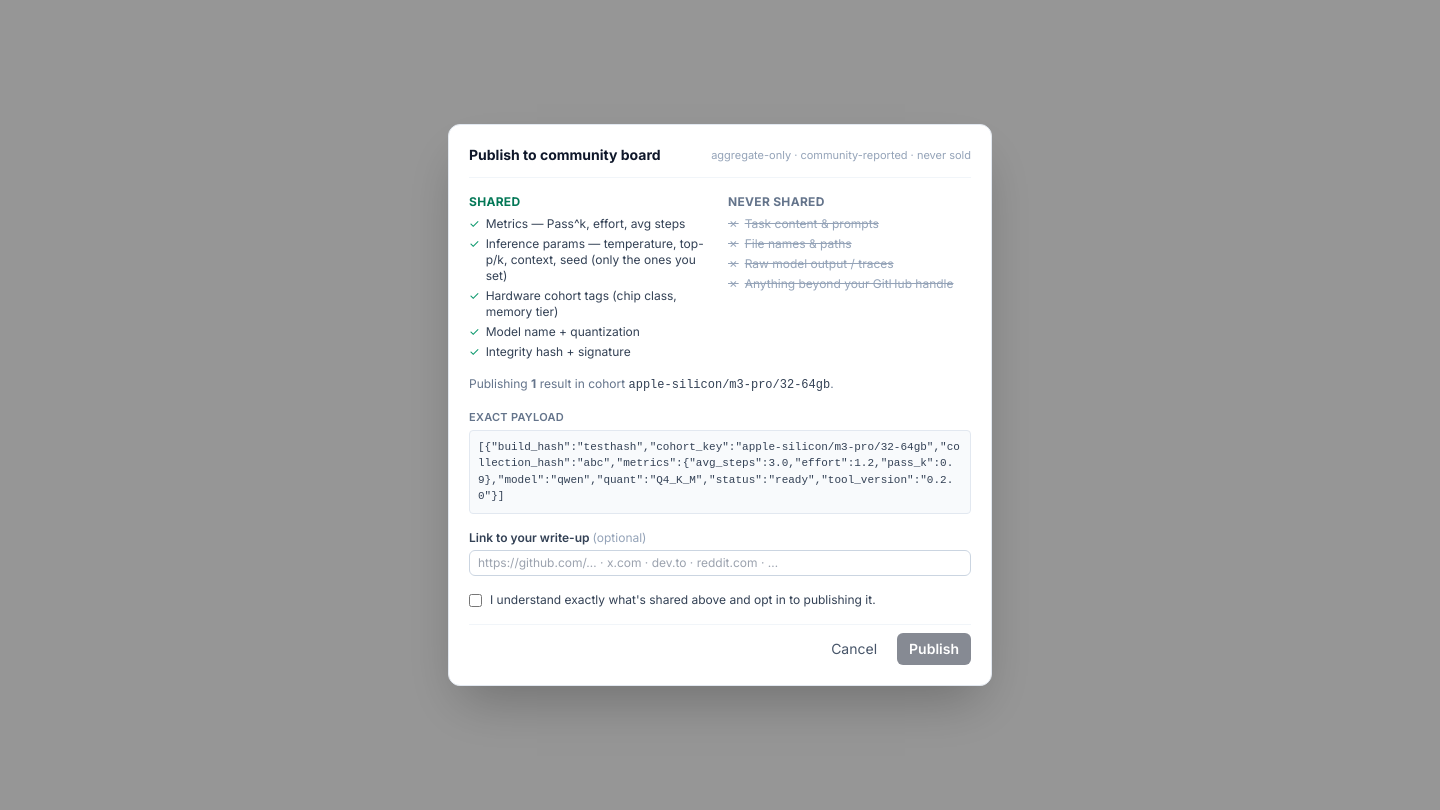
it: PublishDialog › disables Publish on a disallowed write-up link, re-enables when cleared
Click the checkbox with test id "publish-optin".
click(476, 600)  # box x1=469 y1=594 x2=482 y2=607
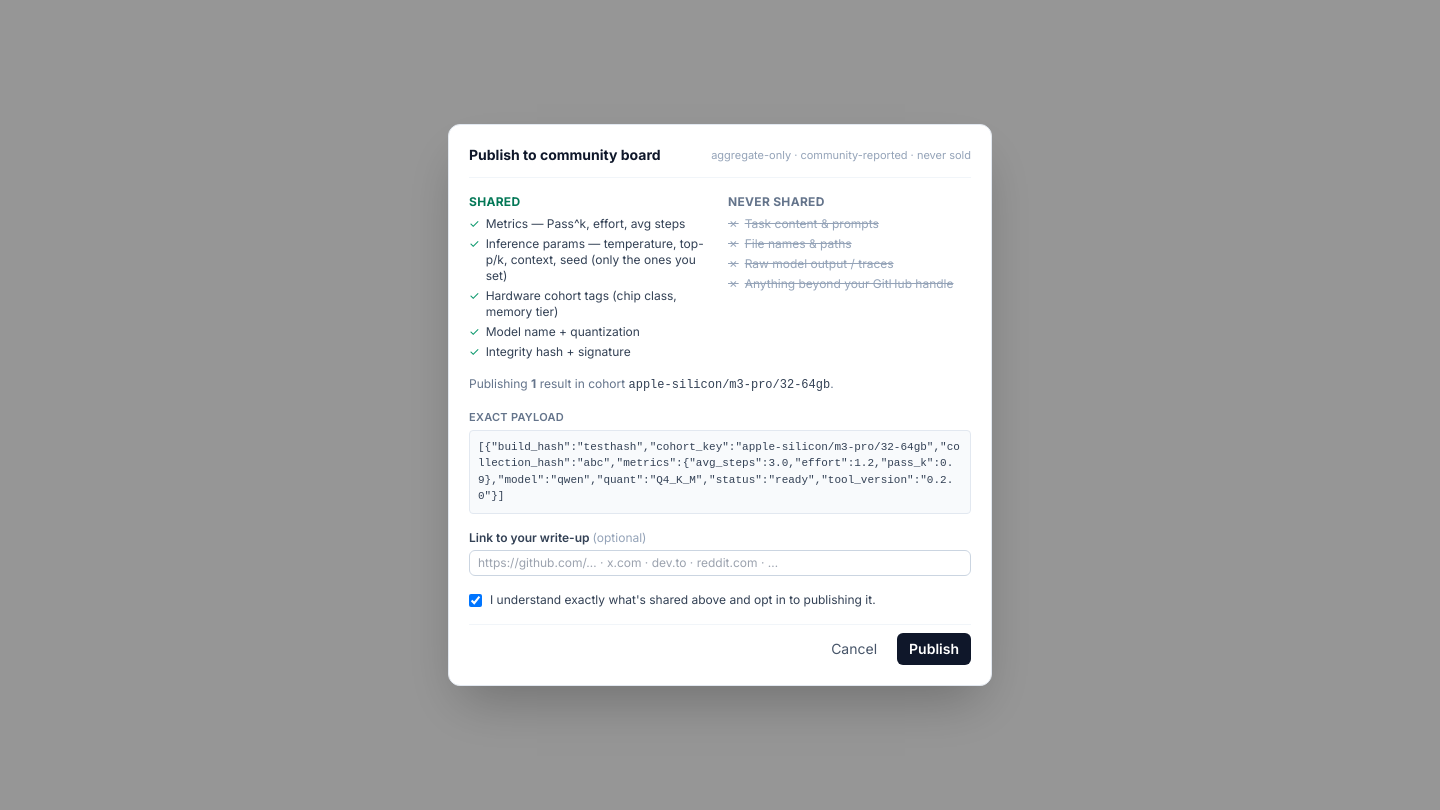
Expected: the button with test id "publish-confirm" is enabled, x1=897 y1=633 x2=971 y2=665
Type "https://evil.com/x" into the field with test id "publish-link".
click(720, 563); type("https://evil.com/x")  # box x1=469 y1=550 x2=971 y2=576
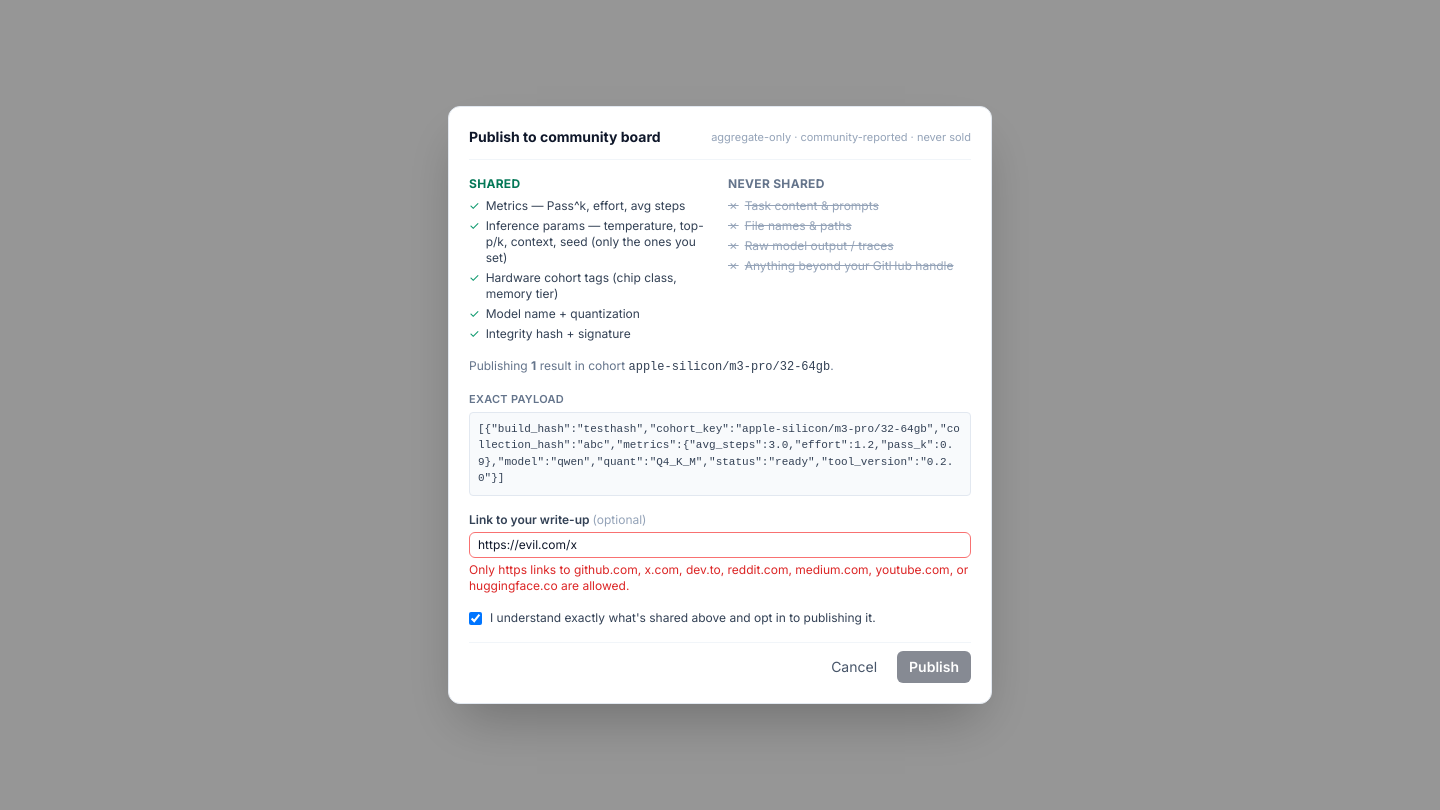
Expected: the button with test id "publish-confirm" is disabled, x1=897 y1=651 x2=971 y2=683
Expected: the text with test id "publish-link-hint" is shown, x1=469 y1=562 x2=971 y2=594
Replace the text in the field with test id "publish-link" with "https://github.com/me/repo" at [720, 545], box x1=469 y1=532 x2=971 y2=558
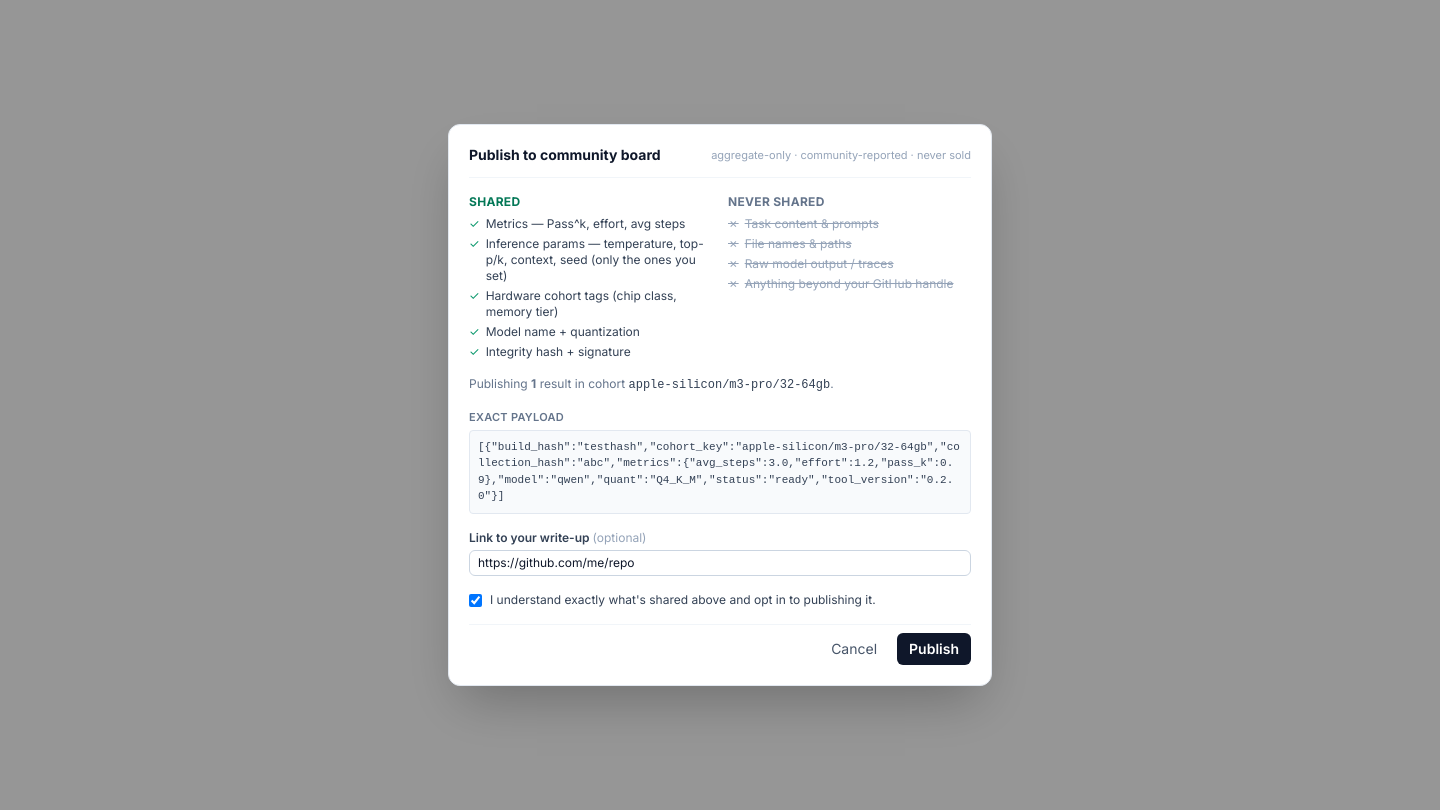
Expected: the button with test id "publish-confirm" is enabled, x1=897 y1=633 x2=971 y2=665
